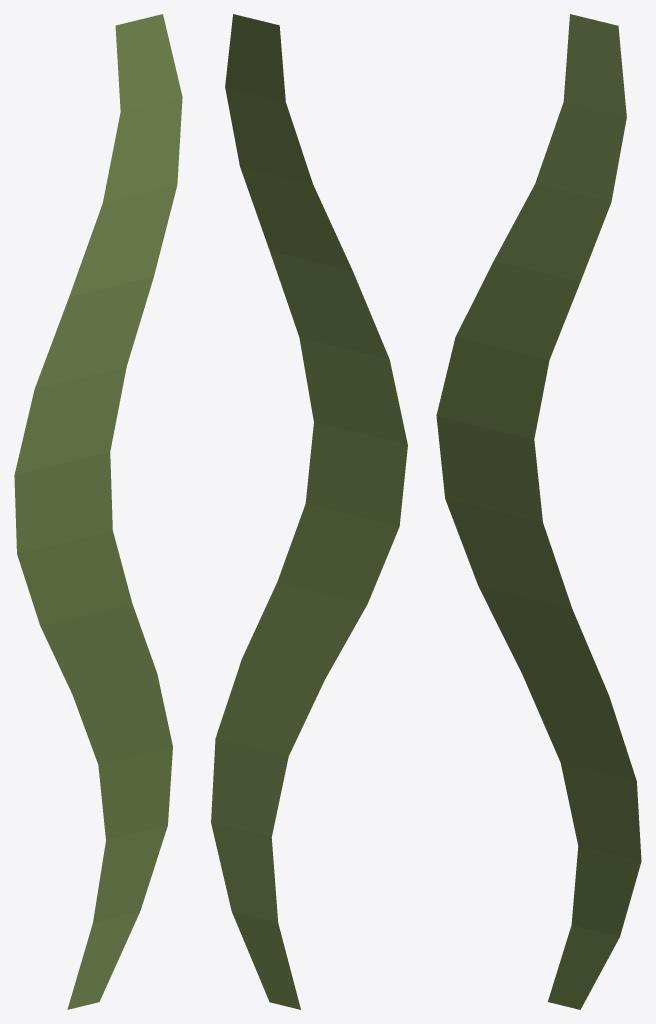
File: kelp.glb
3 renders of one model, left to right at view 1: azimuth 30°, elevation 25°; view 2: azimuth 150°, elevation 25°; view 3: azimuth 330°, elevation 25°, orthographic. The views are drawn at different scales.
Visible parts, largest first — view 1: Kelp; view 2: Kelp; view 3: Kelp.
Boxes of the visible parts, x1,y1,x2,y2 form: Kelp: (14,14,182,1009); Kelp: (211,14,407,1009); Kelp: (436,14,641,1009).
Size of the model in its own units: 0.4974 by 2.64 by 0.1399.
